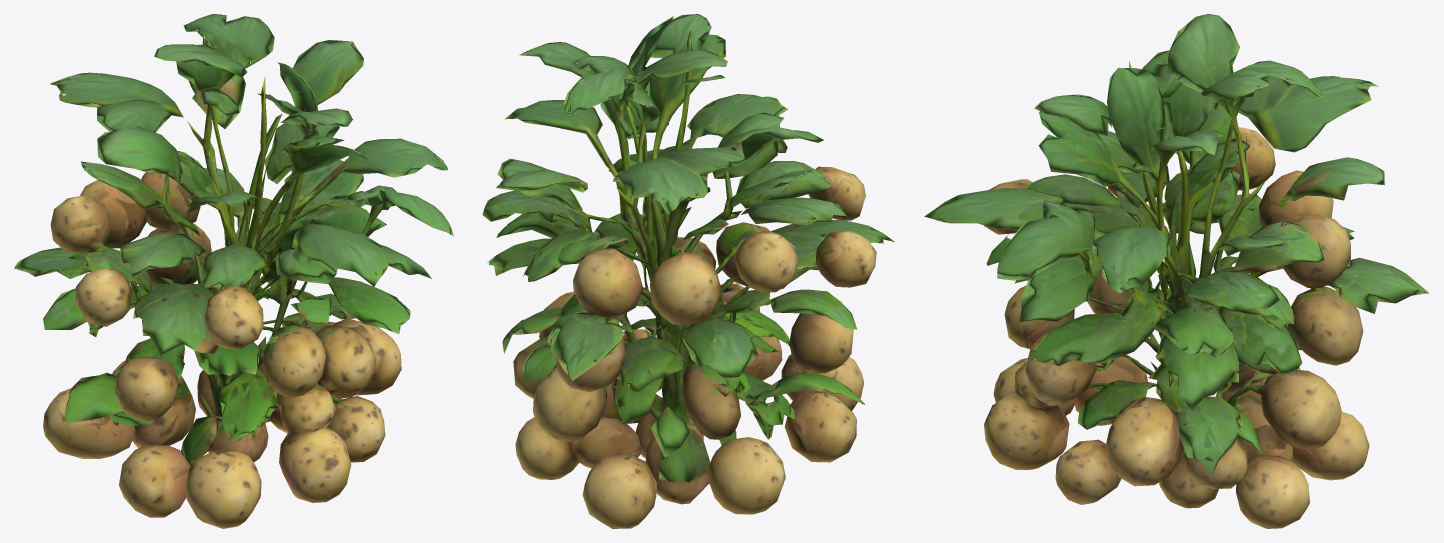
File: potato.glb
3 renders of one model, left to right at view 1: azimuth 30°, elevation 25°; view 2: azimuth 150°, elevation 25°; view 3: azimuth 270°, elevation 25°, orthographic. The views are drawn at different scales.
Size of the model in its own units: 1.71 by 1.86 by 1.92.
1 material, 1 textured.
